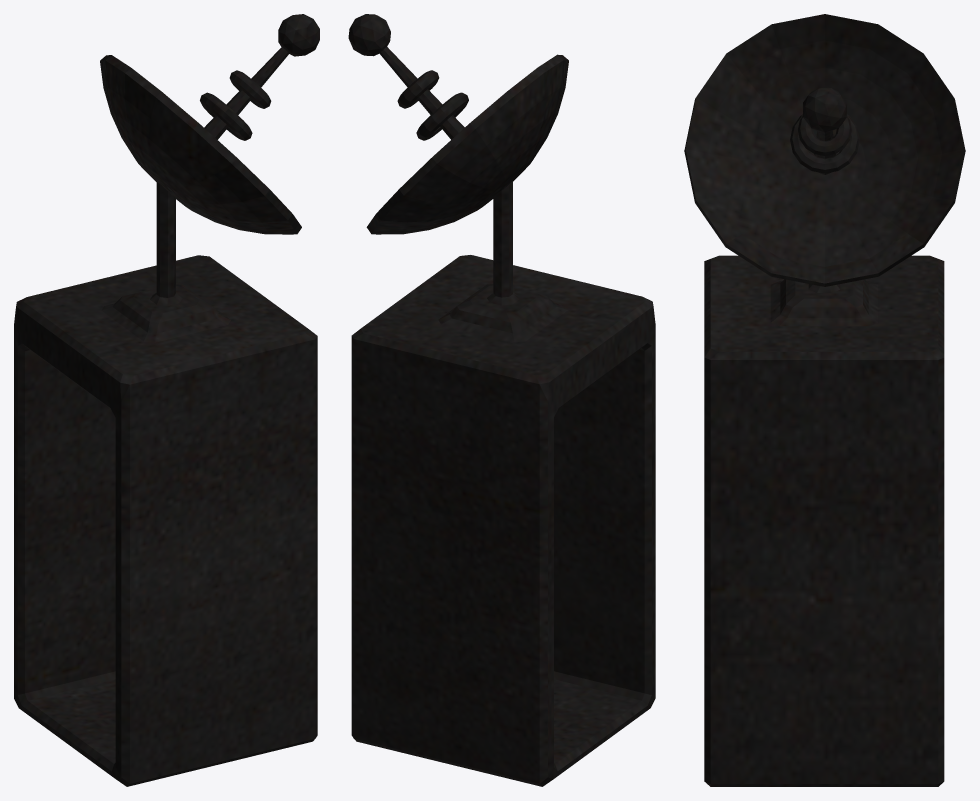
File: SatelliteBooth.fbx
The picture shows the model from 3 angles, left to right: view 1: azimuth 30°, elevation 25°; view 2: azimuth 150°, elevation 25°; view 3: azimuth 270°, elevation 25°; orthographic projection. The views are drawn at different scales.
Parts seen in each view (by area): view 1: Satellite Booth; view 2: Satellite Booth; view 3: Satellite Booth.
Boxes of the visible parts, box(x1,y1,x2,y2) form: Satellite Booth: box(14, 14, 319, 786); Satellite Booth: box(348, 14, 655, 786); Satellite Booth: box(684, 14, 965, 786).
Bounding box in the file's own units: 1.17 × 1.28 × 3.3.
